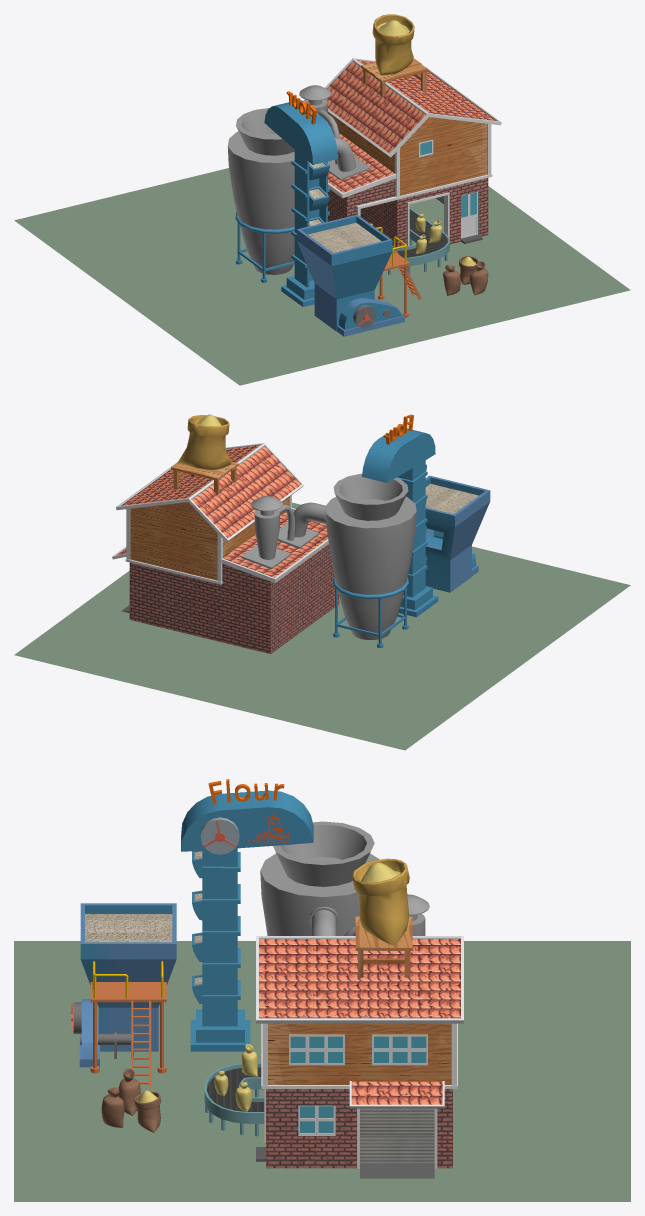
The model's file is flour factory.fbx.
3 views of the same model, one above another, from view 1: azimuth 30°, elevation 25°; view 2: azimuth 150°, elevation 25°; view 3: azimuth 270°, elevation 25° (orthographic). The views are drawn at different scales.
Parts seen in each view (by area): view 1: plane, building, pot, reservior, elevator, bag; view 2: plane, building, pot, reservior, elevator; view 3: plane, building, elevator, reservior, pot, bag.
Part boxes in pixels (box(x1,y1,x2,y2)): plane: box(14, 168, 630, 385); building: box(325, 14, 501, 274); pot: box(227, 85, 370, 282); reservior: box(296, 214, 421, 336); elevator: box(264, 91, 337, 306); bag: box(370, 214, 488, 295); plane: box(14, 502, 630, 750); building: box(112, 414, 339, 653); pot: box(241, 473, 416, 647); reservior: box(425, 475, 490, 592); elevator: box(362, 414, 438, 617); plane: box(14, 941, 630, 1201); building: box(204, 858, 463, 1178); elevator: box(181, 779, 313, 1051); reservior: box(71, 903, 176, 1089); pot: box(260, 821, 429, 935); bag: box(101, 1044, 257, 1132).
Bounding box in the file's own units: 1721 × 831 × 1721.
Materials: 2 (1 with a texture image).
